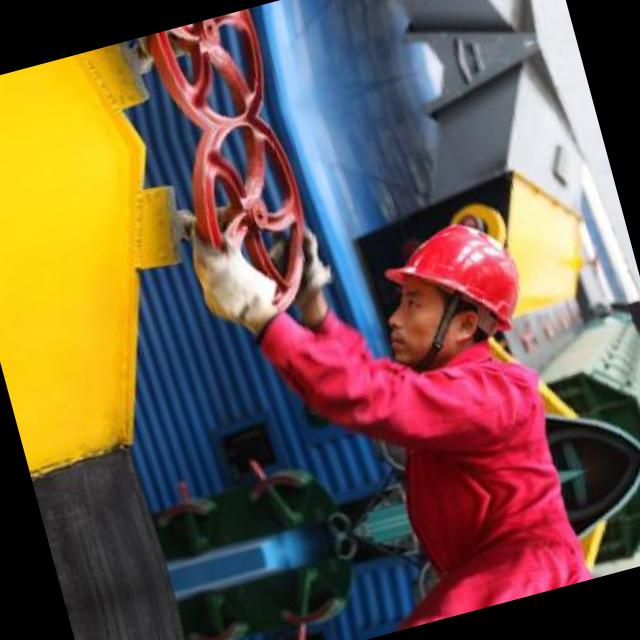helmet: (352, 192, 552, 390)
